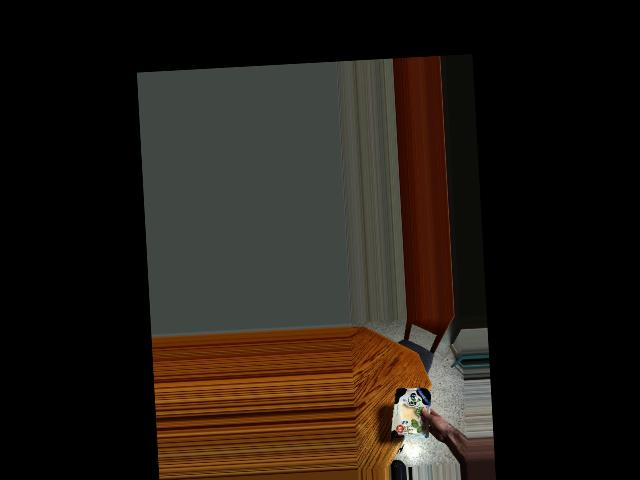cheese: (388, 379, 435, 445)
